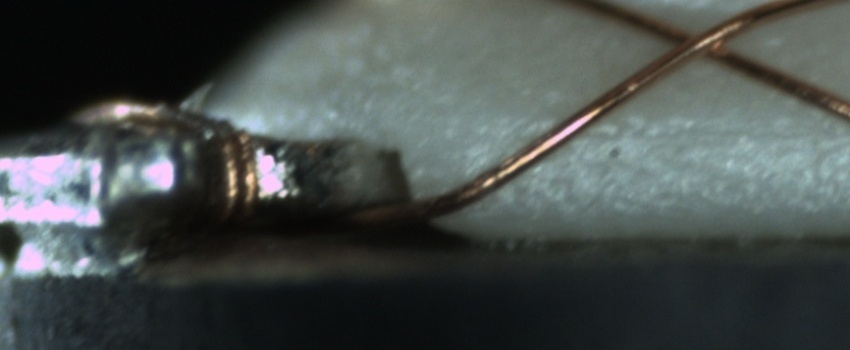CL: (651, 12, 747, 71)
DL: (489, 101, 848, 171)
TE: (70, 89, 271, 233)
